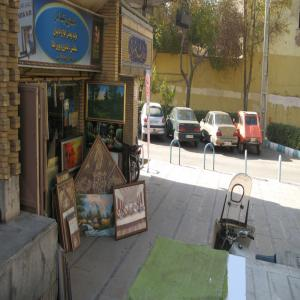Vehicle-registration-plate: (187, 135, 194, 139), (226, 142, 233, 146), (152, 122, 160, 125), (252, 139, 257, 142)
